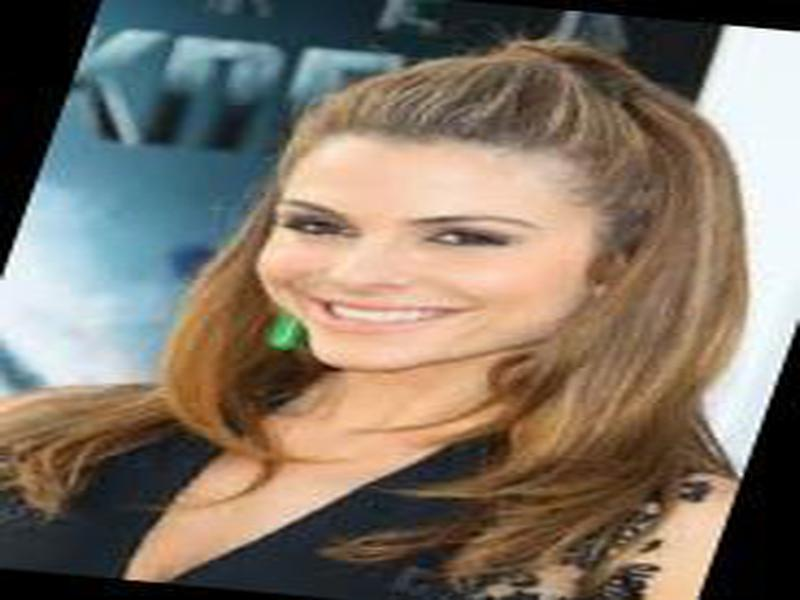without_mask: (261, 133, 589, 367)
